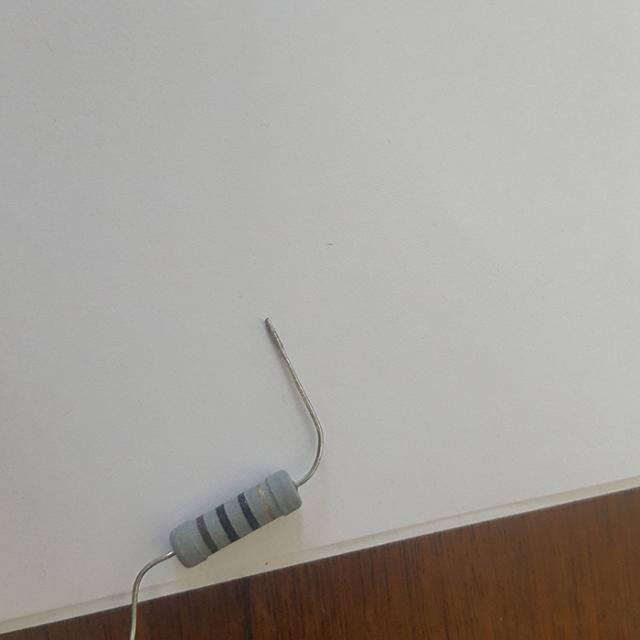black: (238, 493, 261, 530), (217, 503, 239, 541)
brown: (197, 516, 219, 552)
gold: (257, 484, 275, 518)
resistor: (153, 457, 319, 578)
